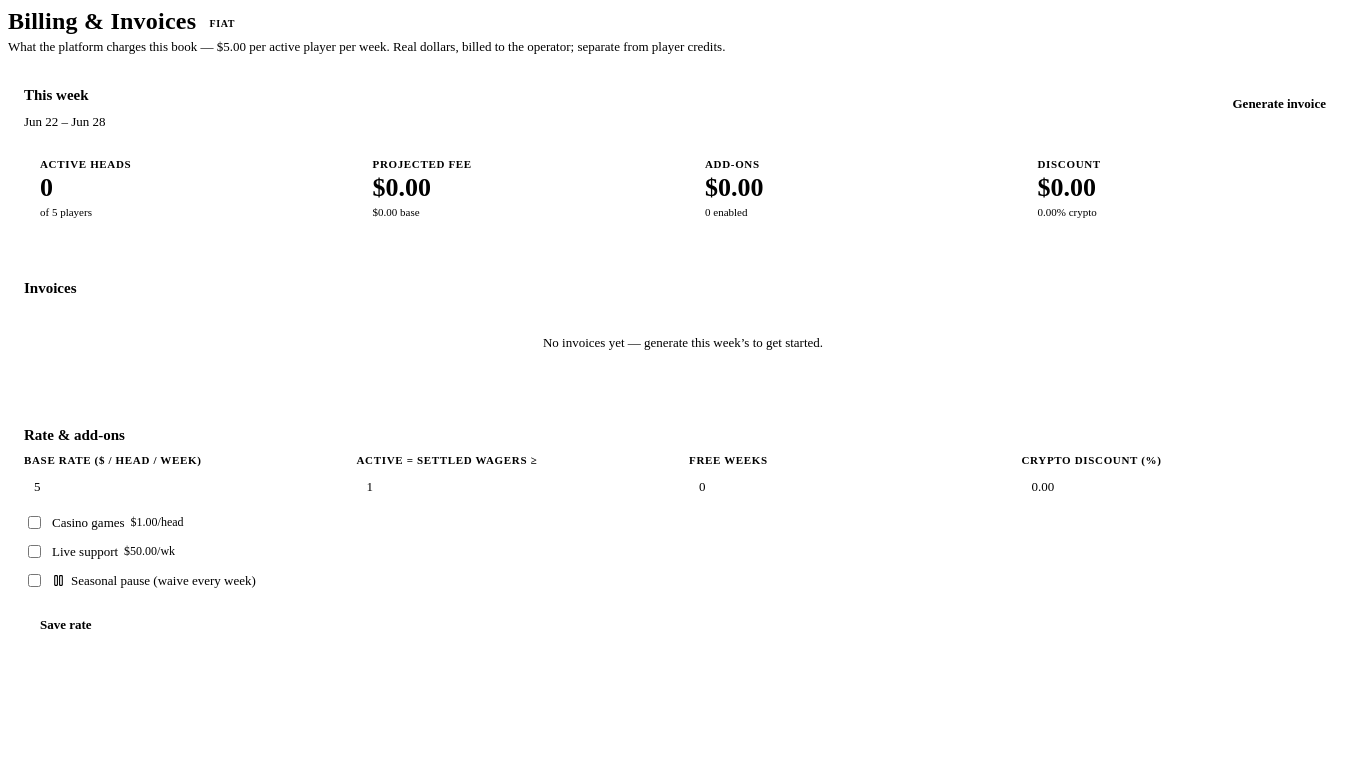
Test case: BillingPanel › starts with no invoices, then Generate persists one
Click the button "Generate invoice" at [1279, 104], box [1216, 87, 1342, 121]
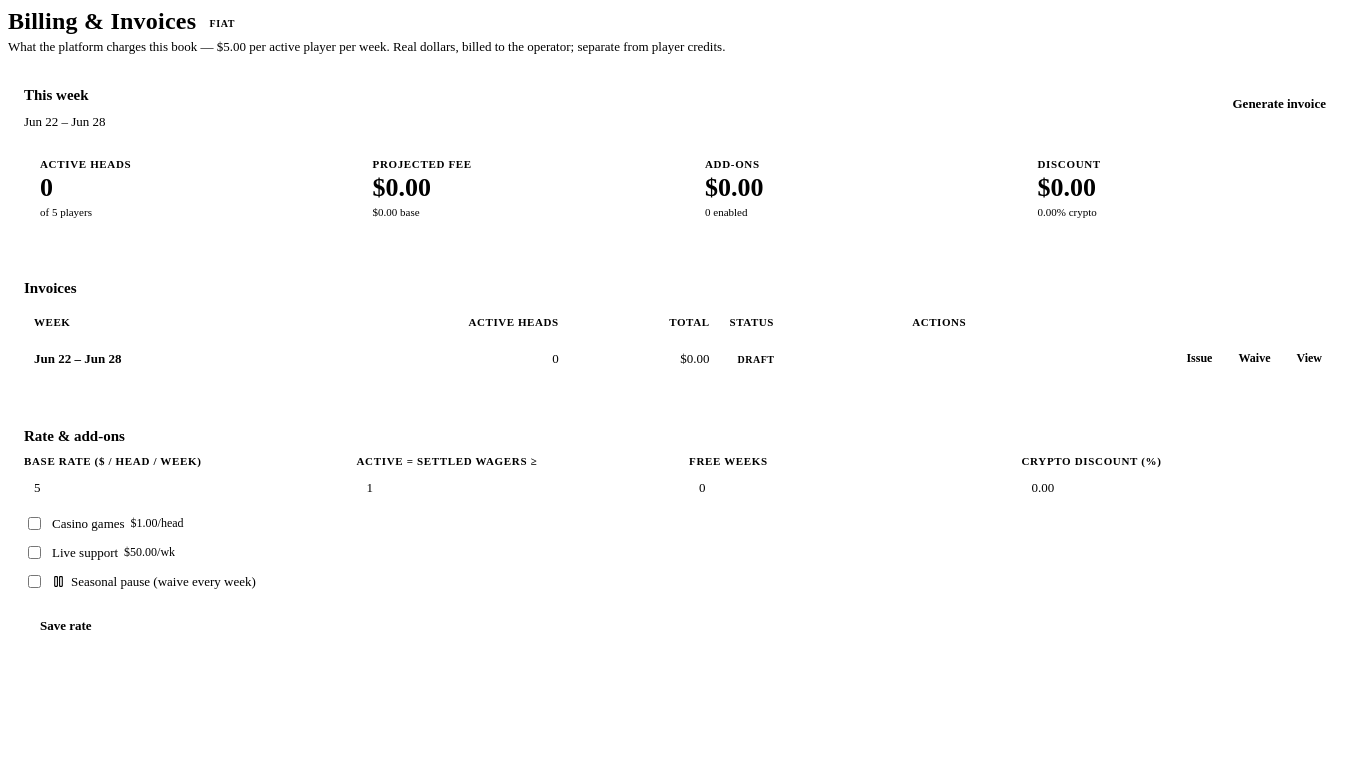
Now the text "Draft" is shown, box [738, 354, 774, 364]
